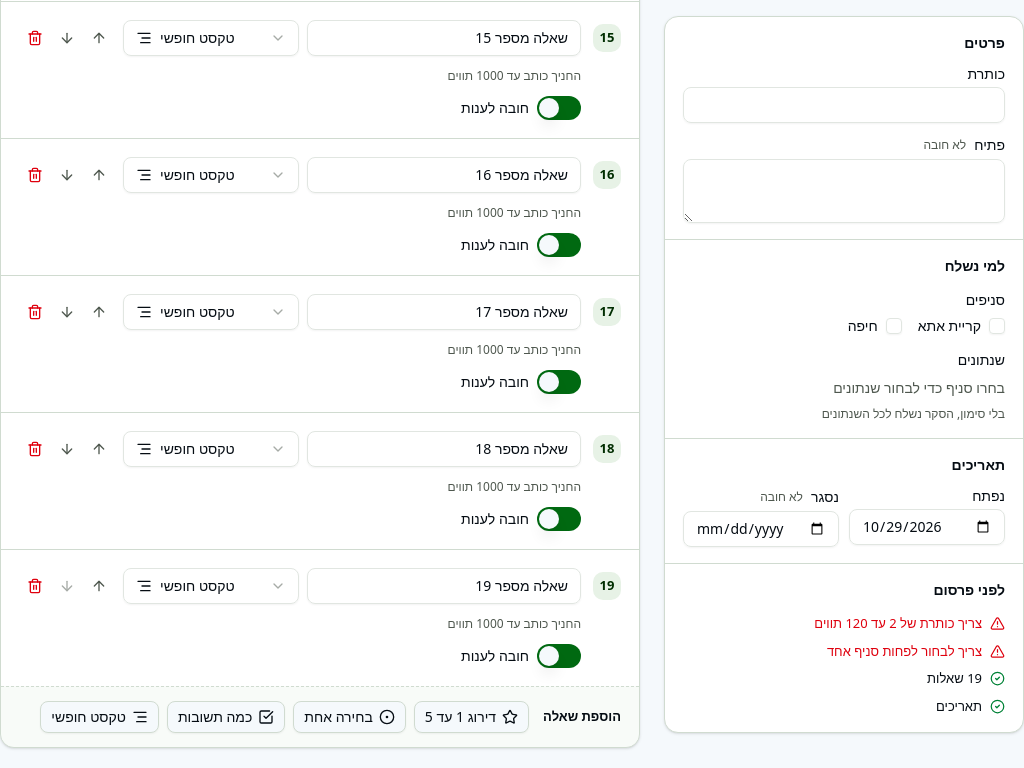
Test: SurveyBuilder: Questions › stops offering new Questions at 20
(page scrolled)
expect the button "דירוג 1 עד 5" is enabled: met, box [414,700,529,732]
expect the button "בחירה אחת" is enabled: met, box [293,700,406,732]
What coordinates should you click on to do the following:
click the button "טקסט חופשי"
I would click on:
 (100, 716)
Its box is [40,700,159,732].
(page scrolled)
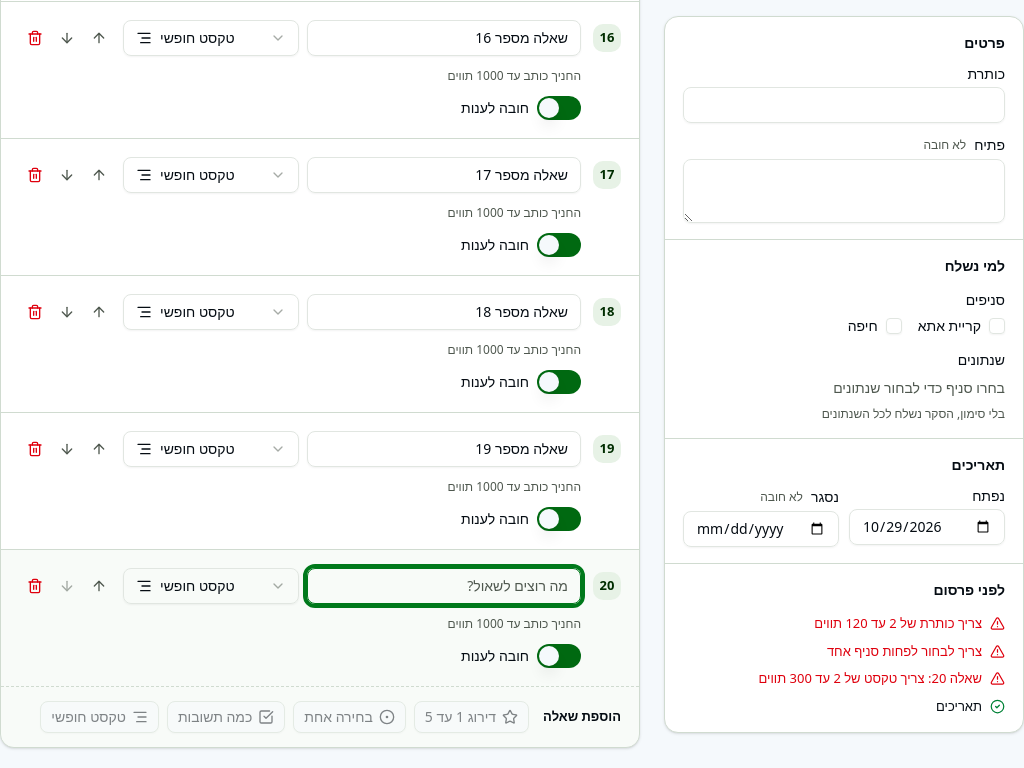
expect the button "דירוג 1 עד 5" is disabled: met, box [414,700,529,732]
expect the button "בחירה אחת" is disabled: met, box [293,700,406,732]
expect the button "כמה תשובות" is disabled: met, box [167,700,285,732]
